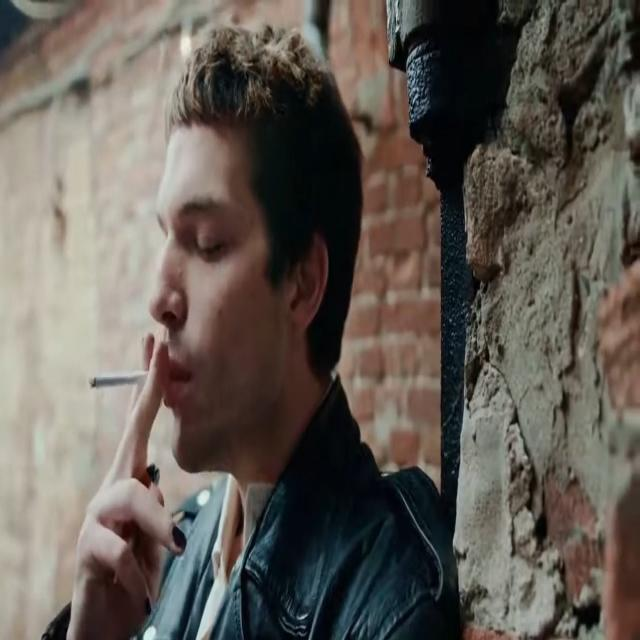Курение: (84, 366, 158, 392)
